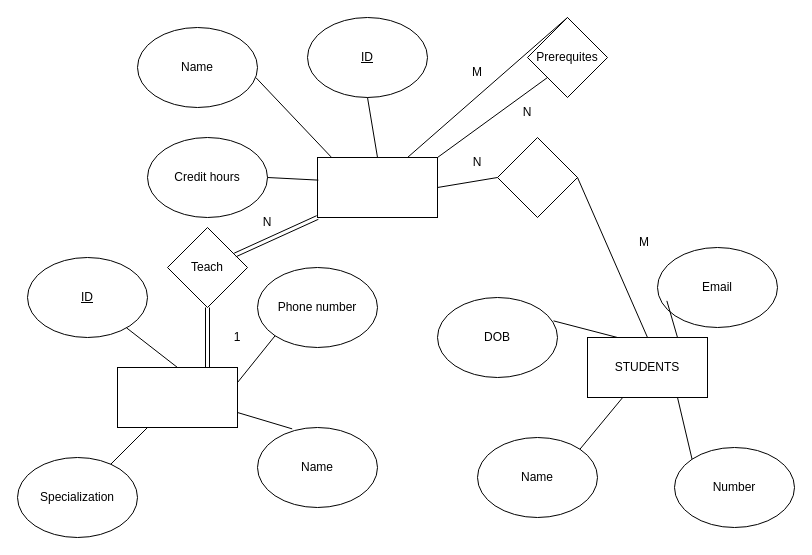
Image size: 812x555. Some labels were removed from this diagram. Here are the shapes that lost their labels. From the top down, the centre of each, then its label:
pixel 377 187: COURSES
pixel 537 177: Enroll
pixel 177 397: INSTRUCTOR
